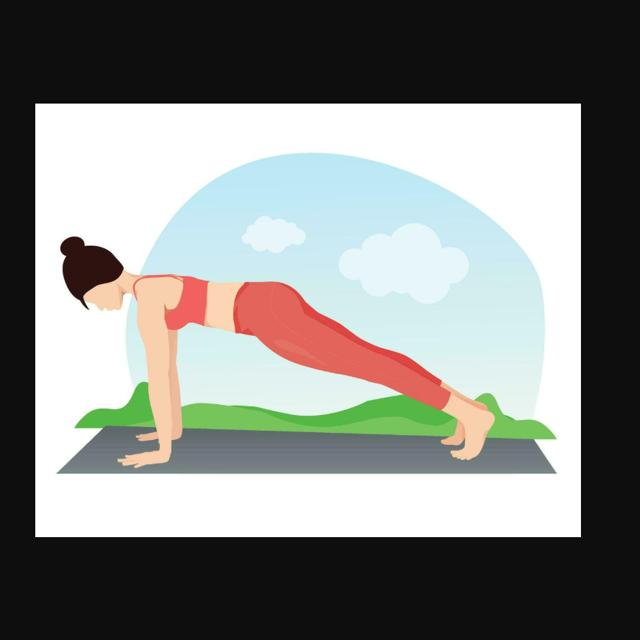Plank_Pose: (49, 232, 500, 473)
